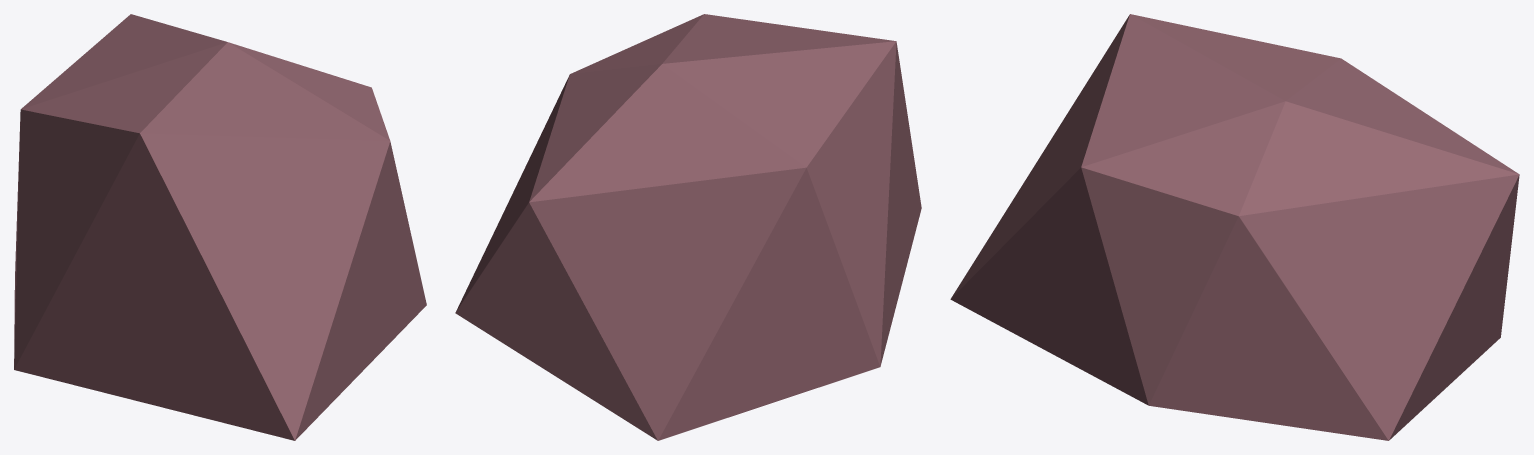
File: rock_2.fbx
The picture shows the model from 3 angles, left to right: view 1: azimuth 30°, elevation 25°; view 2: azimuth 150°, elevation 25°; view 3: azimuth 270°, elevation 25°; orthographic projection. The views are drawn at different scales.
Visible parts, largest first — view 1: Icosphere; view 2: Icosphere; view 3: Icosphere.
Part boxes in pixels (<box>): Icosphere: <box>14,14,426,440</box>; Icosphere: <box>455,14,921,440</box>; Icosphere: <box>950,14,1519,440</box>.
Size of the model in its own units: 180 by 133 by 233.
